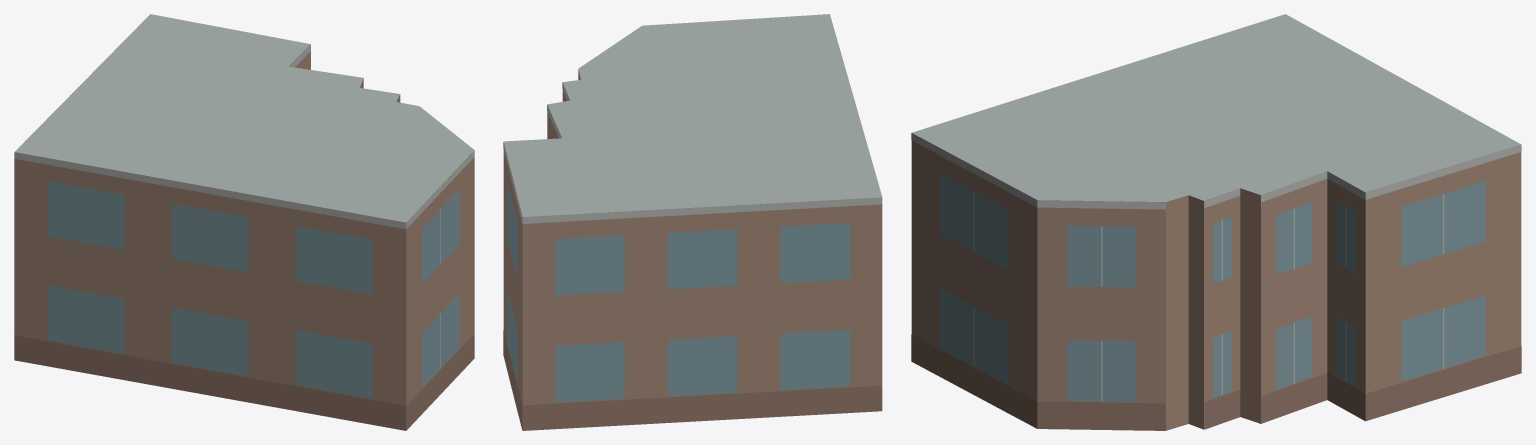
Rendered from survey-upis-32635952.glb.
The picture shows the model from 3 angles, left to right: view 1: azimuth 30°, elevation 25°; view 2: azimuth 150°, elevation 25°; view 3: azimuth 270°, elevation 25°; orthographic projection. The views are drawn at different scales.
Visible parts, largest first — view 1: survey-upis-32635952.tmp; view 2: survey-upis-32635952.tmp; view 3: survey-upis-32635952.tmp.
Boxes of the visible parts, x1=… form: survey-upis-32635952.tmp: x1=14, y1=14, x2=474, y2=430; survey-upis-32635952.tmp: x1=503, y1=14, x2=882, y2=430; survey-upis-32635952.tmp: x1=911, y1=14, x2=1521, y2=430.
Bounding box in the file's own units: 13.23 × 7.5 × 18.13.
